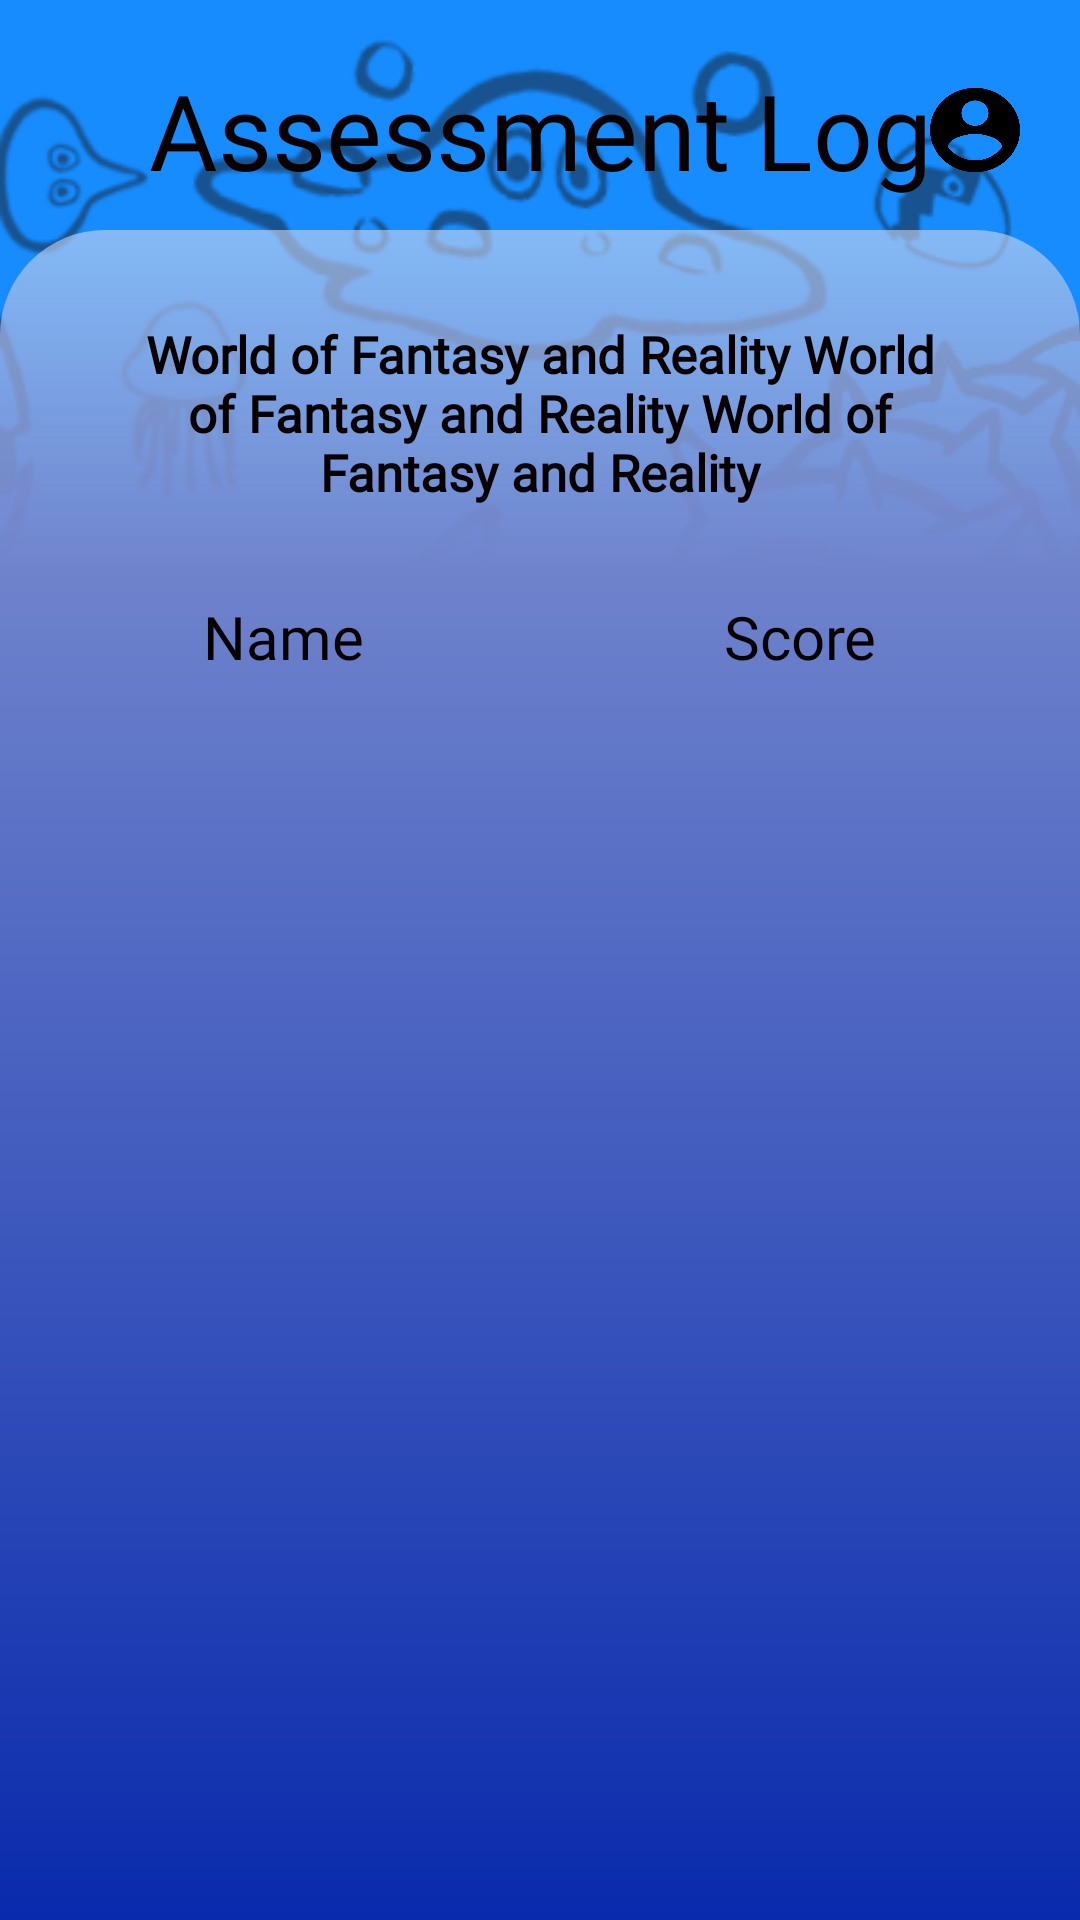

Screen size 1080x1920. Icon name, then its box in pixels as (x1, y1, x2, y2):
profile: (930, 88, 1020, 175)
